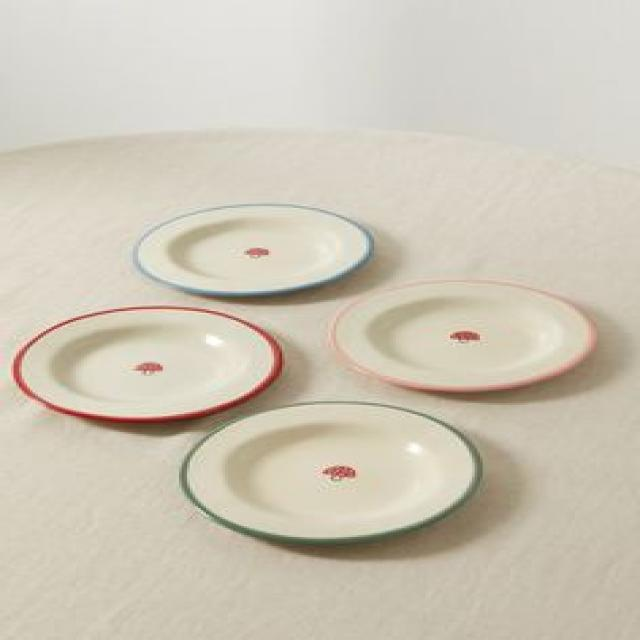plate: (158, 382, 498, 566), (0, 265, 307, 441), (323, 276, 603, 394), (115, 191, 377, 305)
